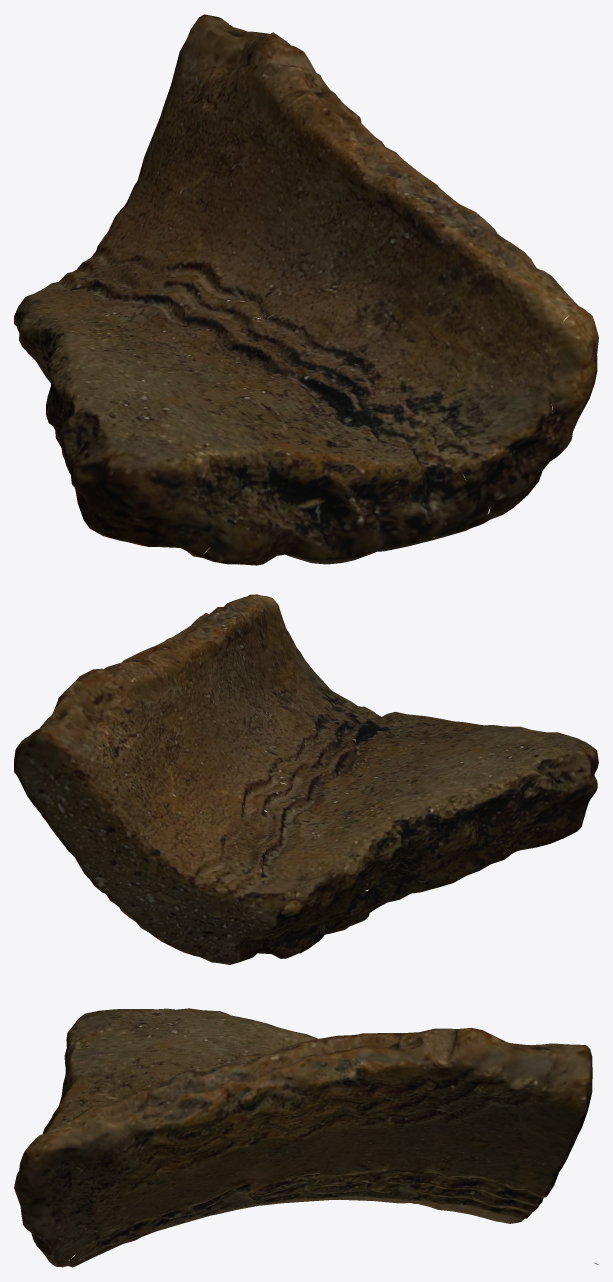
Rendered from nnj.glb.
3 views of the same model, one above another, from view 1: azimuth 30°, elevation 25°; view 2: azimuth 150°, elevation 25°; view 3: azimuth 270°, elevation 25° (orthographic). The views are drawn at different scales.
Bounding box in the file's own units: 0.0492 × 0.0307 × 0.062.
1 material, 1 textured.
